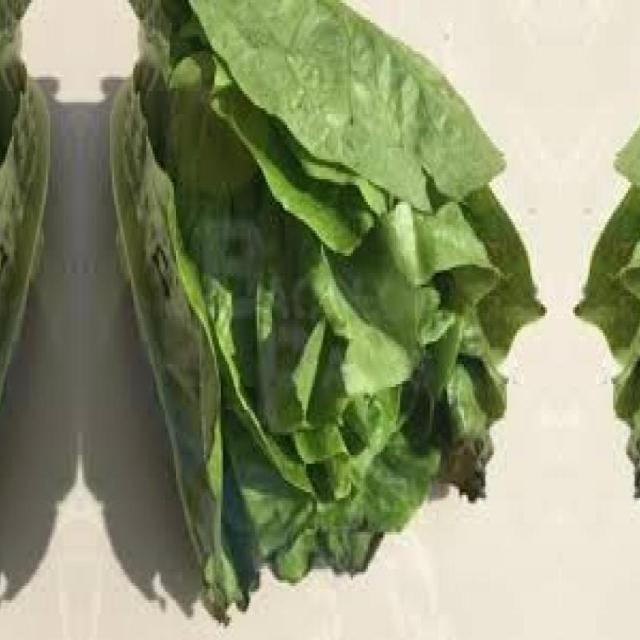healthy: (107, 0, 541, 632), (579, 0, 640, 632), (0, 0, 53, 632)
